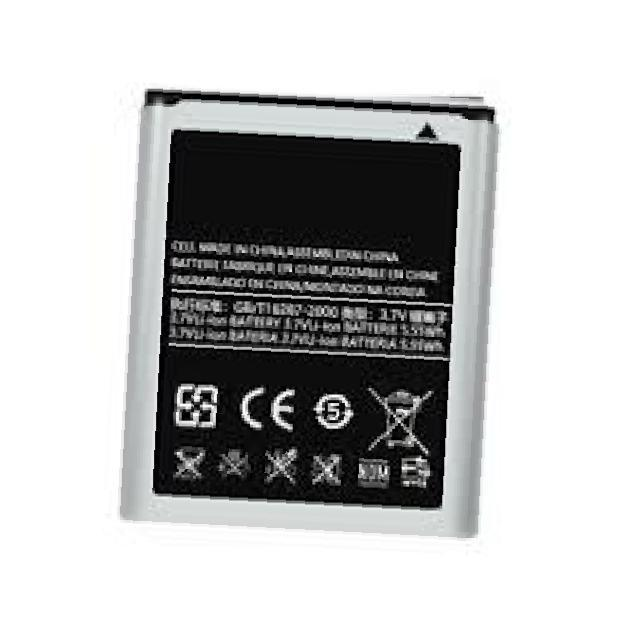Battery: (111, 72, 515, 554)
